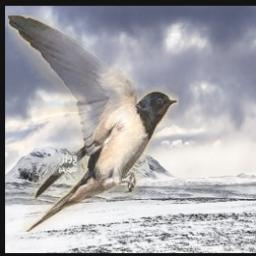Swallow: (8, 15, 179, 233)
